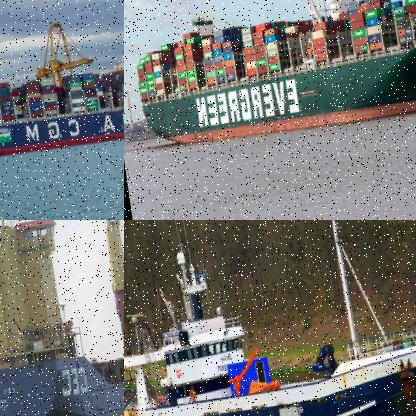Fishing Boat: (124, 220, 415, 415)
Merchant Ship: (125, 0, 415, 151), (0, 220, 123, 415), (0, 32, 123, 171)
